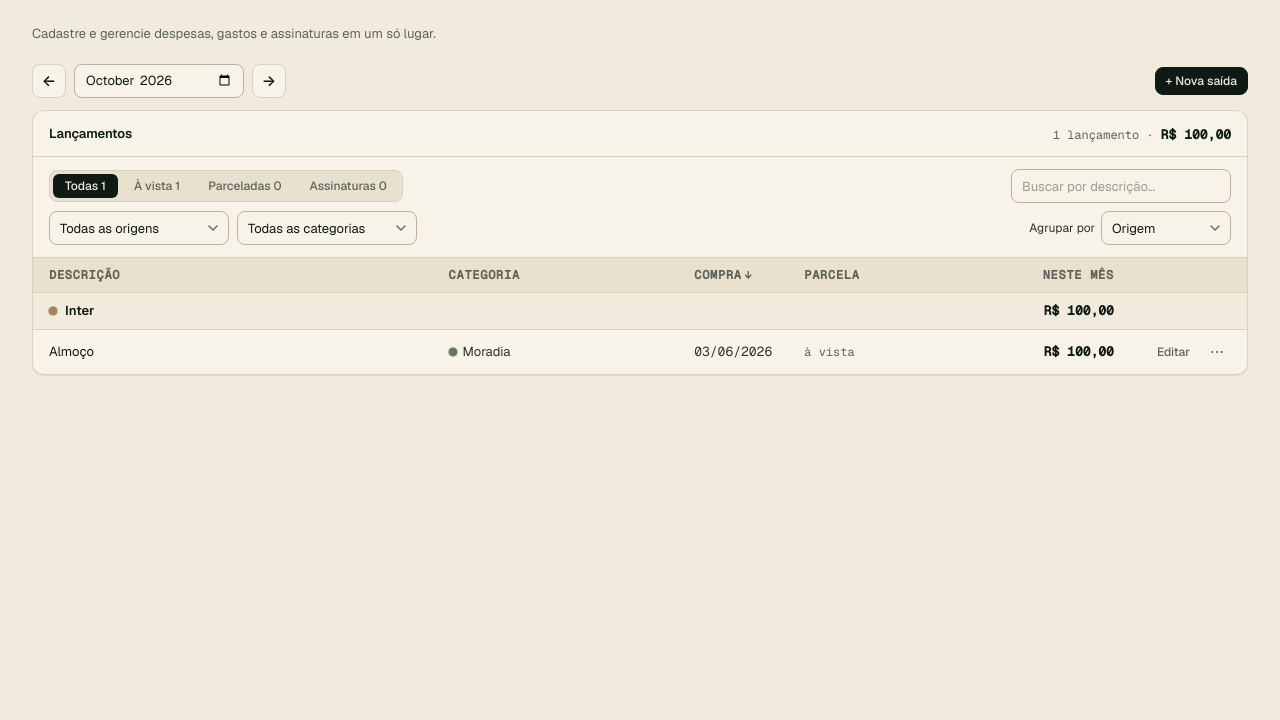
Test: SaidasPage — editar compra à vista em fatura fechada › em fatura Aberta, valor e data seguem editáveis
Click the button "Editar" at {"x": 1173, "y": 352}, box 1146,338 -> 1201,366
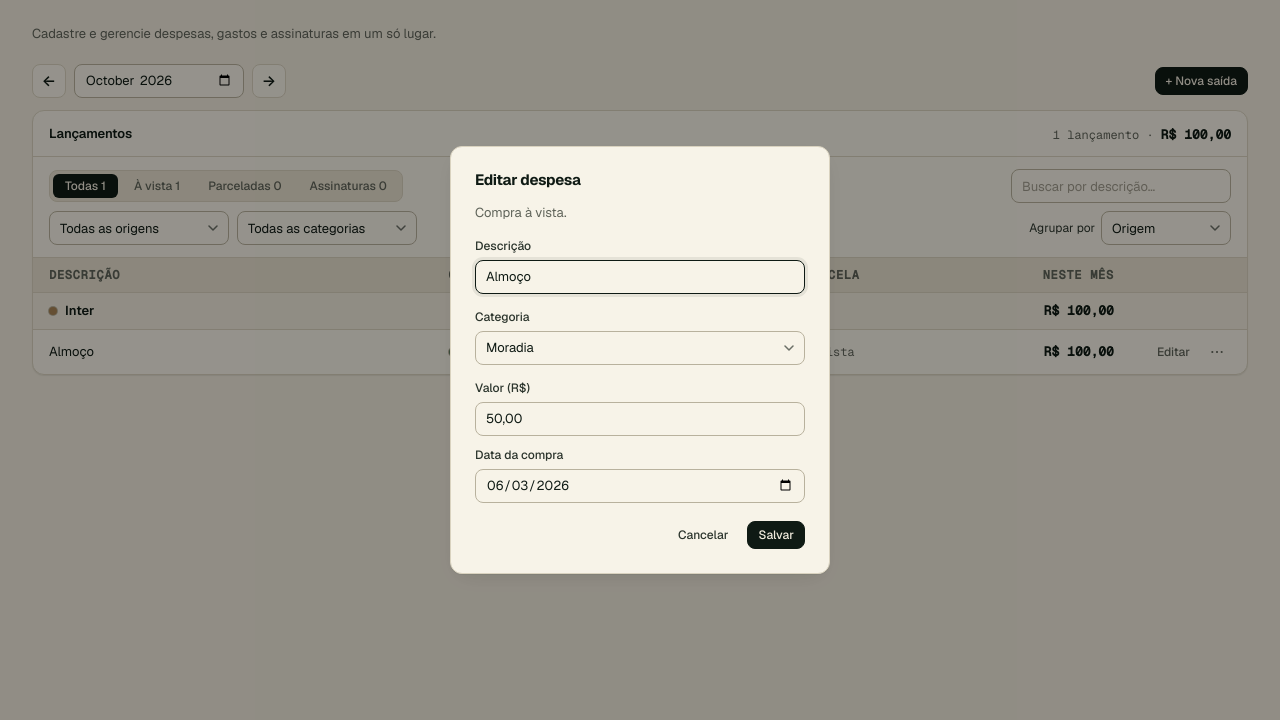
Check: the field labelled "Valor (R$)" is enabled, box 475,402 -> 805,436
Check: the date field labelled "Data da compra" is enabled, box 475,469 -> 805,503
